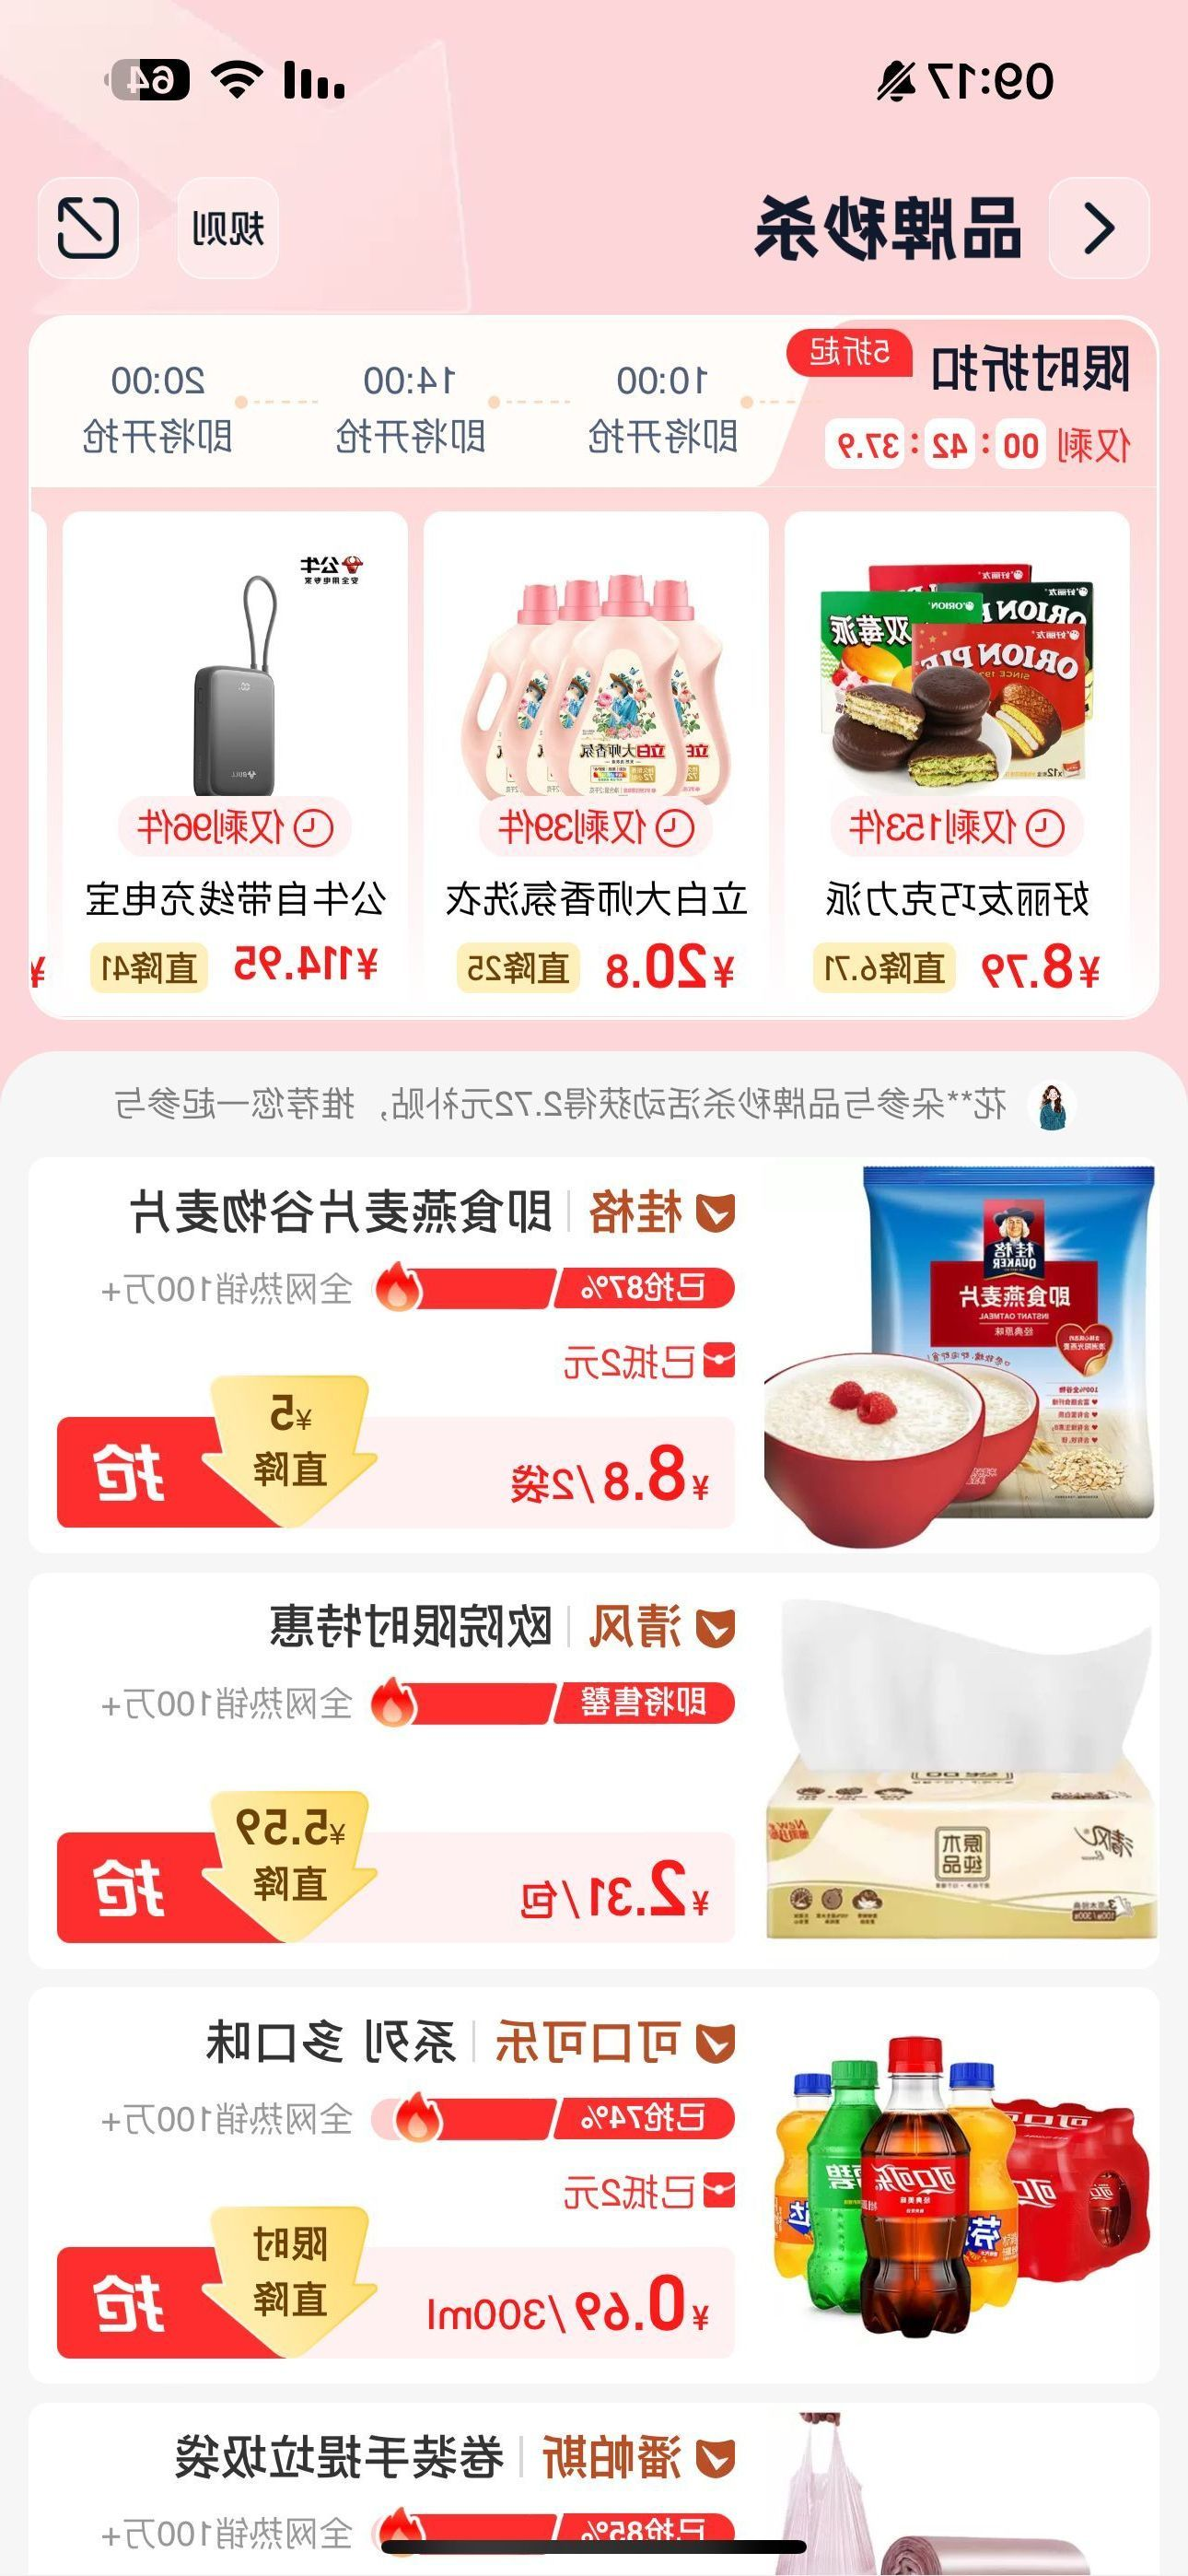item: (3, 1134, 1183, 1557), (13, 1556, 1178, 1968), (3, 1983, 1186, 2371)
op_bar: (8, 135, 1186, 307)
seckill: (20, 311, 1178, 1033)
